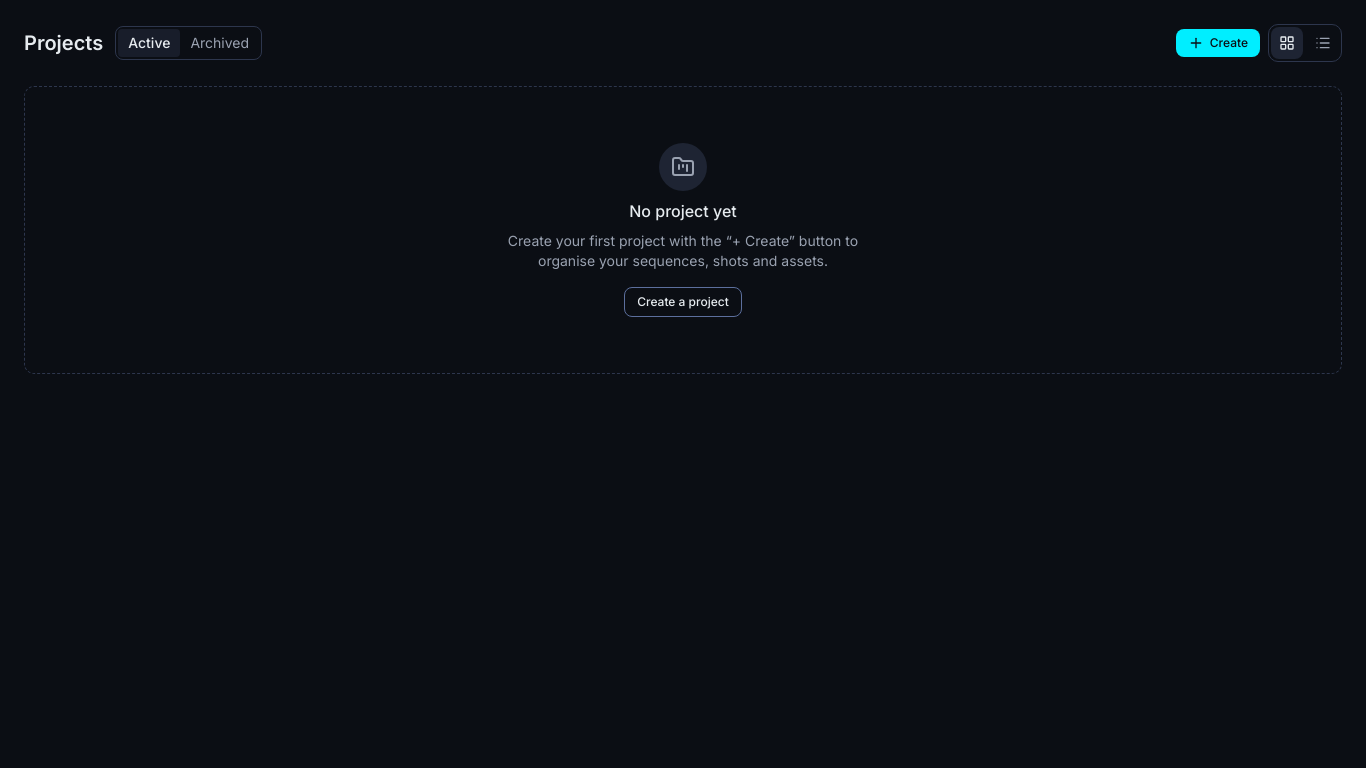
ProjectsPage › creates a project from the dialog and refreshes the list
Click the button "Create a project".
click(683, 302)  # box [624, 287, 742, 317]
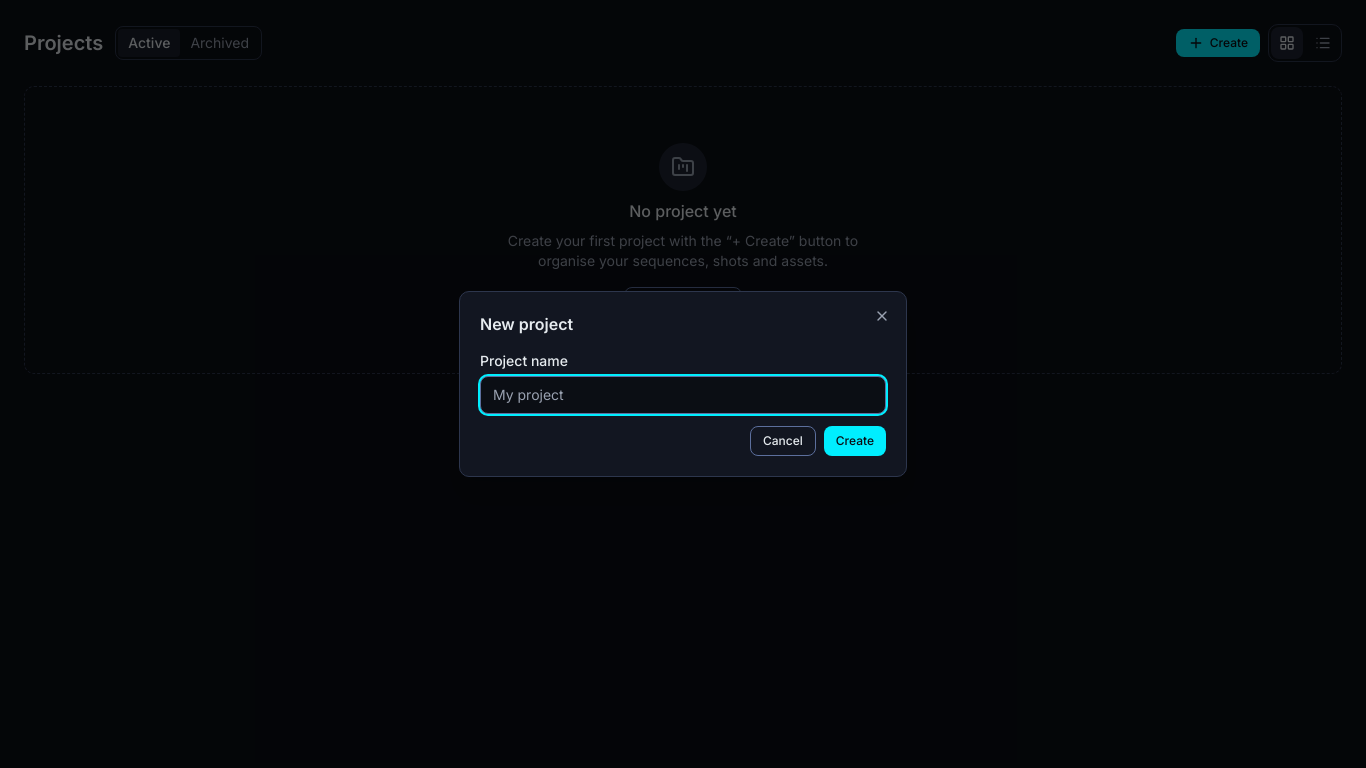
Type "Nouveau" into the field with placeholder "My project".
click(683, 395); type("Nouveau")  # box [480, 376, 886, 414]
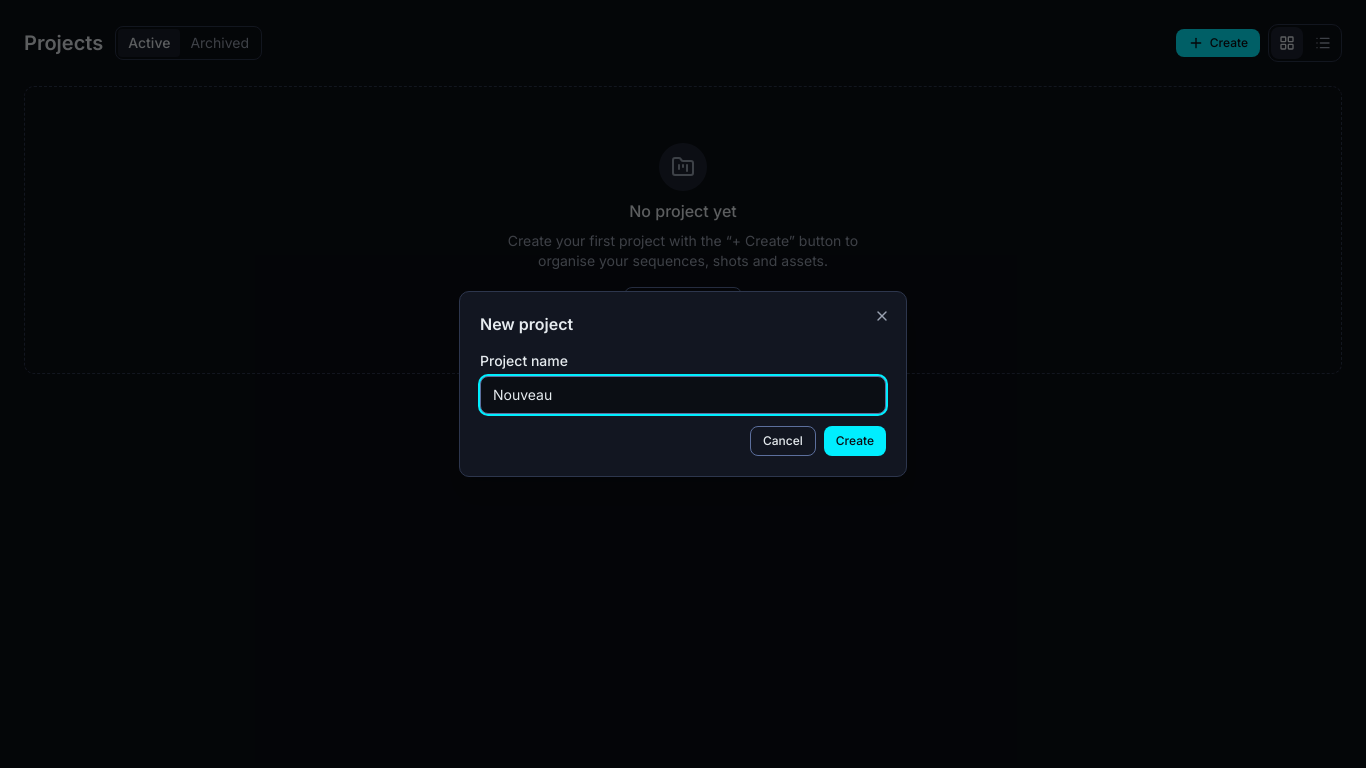
Click the button "Create".
click(855, 441)  # box [824, 426, 886, 456]
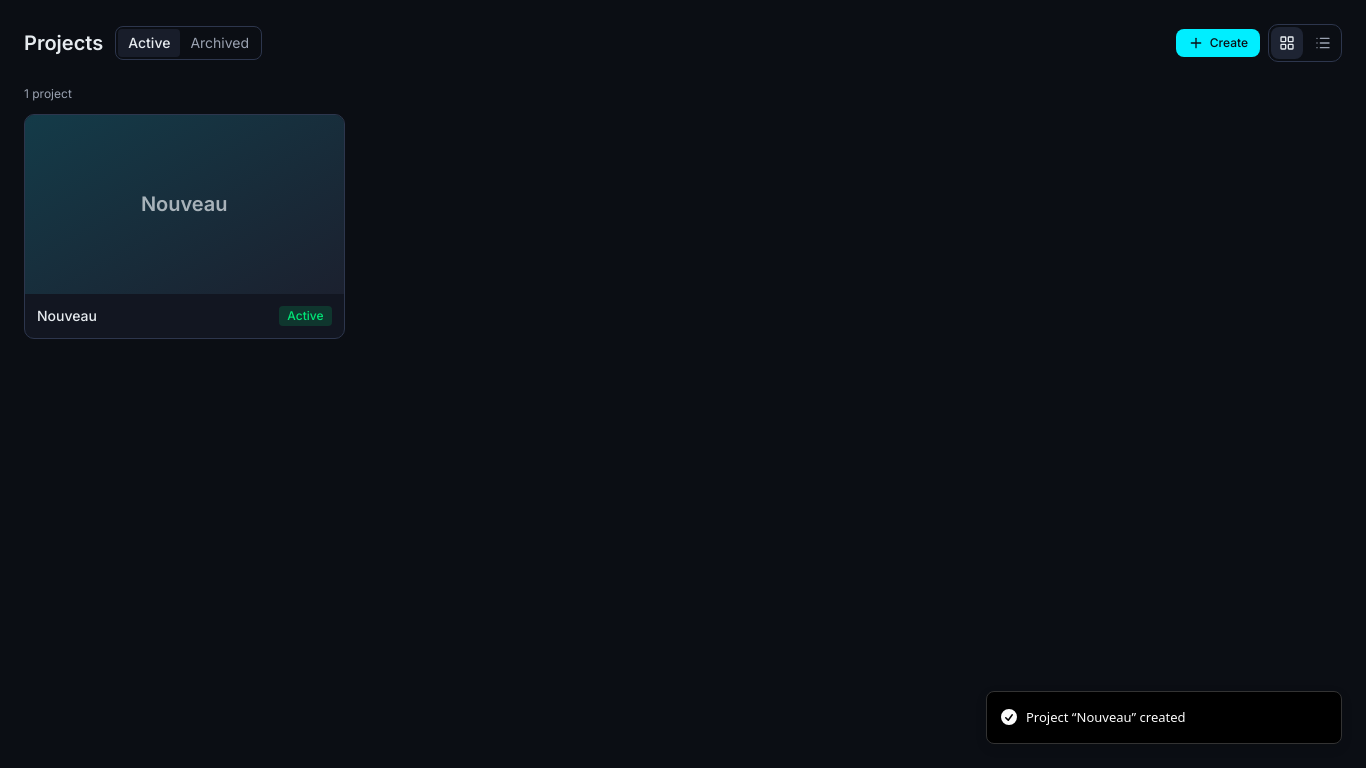
Result: the link "Nouveau Nouveau Active" is shown at [24, 114, 344, 339]
